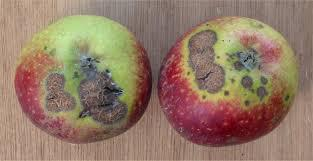damaged_apple: (156, 16, 300, 148), (15, 16, 151, 144)
